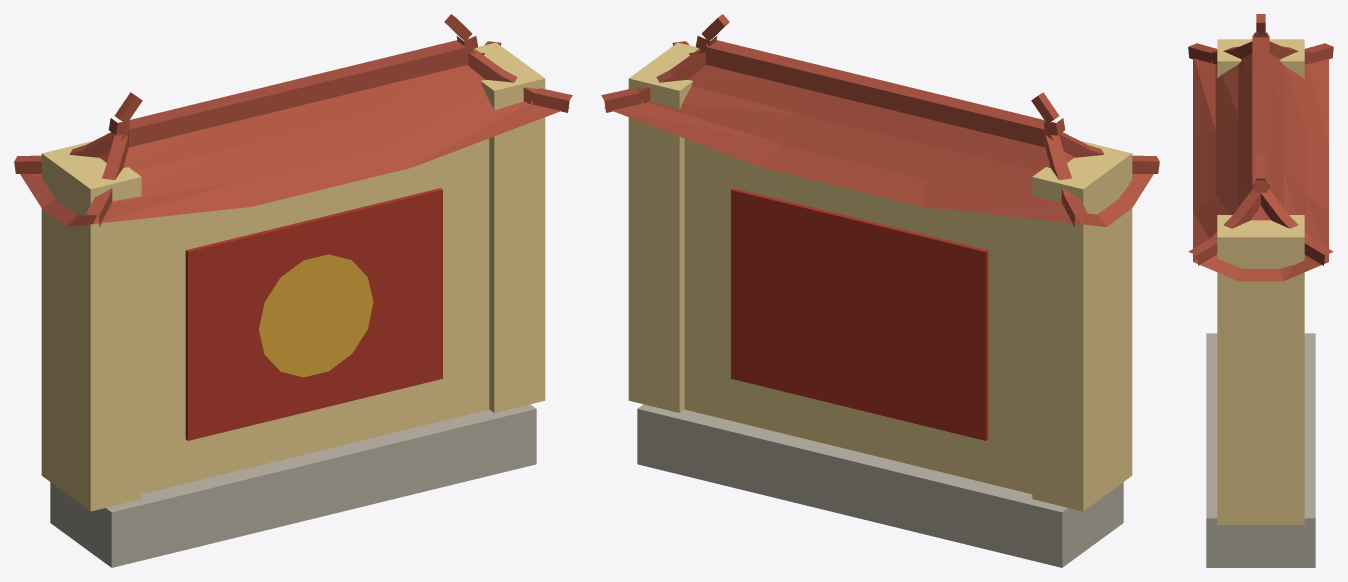
File: viet_screen_wall.glb
3 views of the same model, side by side, from view 1: azimuth 30°, elevation 25°; view 2: azimuth 150°, elevation 25°; view 3: azimuth 270°, elevation 25° (orthographic). The views are drawn at different scales.
Visible parts, largest first — view 1: viet_screen_wall; view 2: viet_screen_wall; view 3: viet_screen_wall.
Part boxes in pixels (<box>): viet_screen_wall: <box>14,14,572,567</box>; viet_screen_wall: <box>601,14,1159,567</box>; viet_screen_wall: <box>1188,14,1333,567</box>.
Bounding box in the file's own units: 1 × 0.8606 × 0.29.
